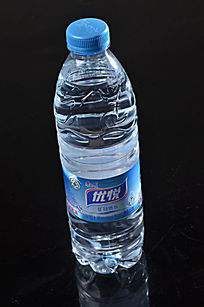amwater: (40, 16, 159, 278)
